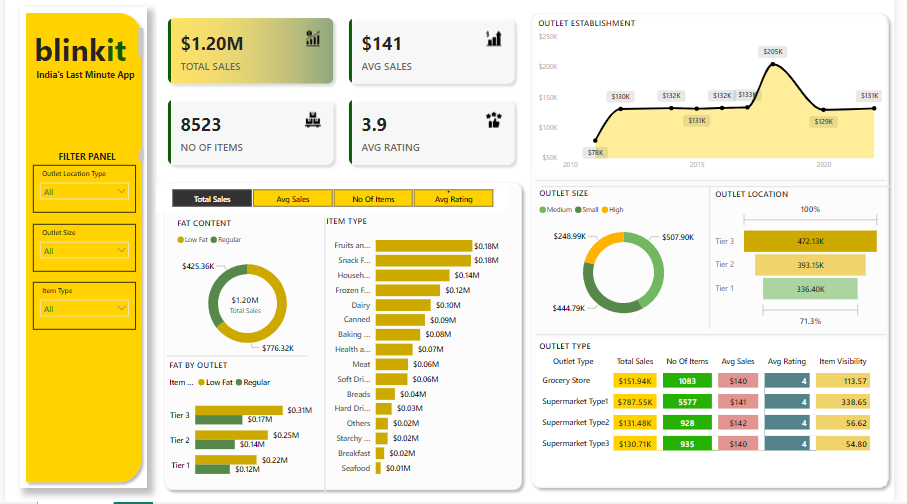

The page's visual inventory and layout, read from the dashboard file:
{"tool":"powerbi","page":{"name":"Page 1","canvas":[1400,800],"ordinal":0},"visuals":[{"type":"shape","box":[23.1,20.2,200,757.9],"z":0},{"type":"textbox","box":[40.5,49.2,182.2,63.6],"z":1000},{"type":"textbox","box":[44.1,111.8,181.1,34.6],"z":2000},{"type":"cardVisual","fields":{"Data":["BlinkIT Grocery Data.Total Sales","BlinkIT Grocery Data.Avg Sales","BlinkIT Grocery Data.No Of Items","BlinkIT Grocery Data.Avg Rating"]},"box":[240,21.1,581.1,267.4],"z":3000},{"type":"shape","box":[240.3,286.5,582.2,503.6],"z":4000},{"type":"slicer","fields":{"Values":["Metrics.Metrics"]},"box":[238.5,301.1,555.3,41.1],"z":6000},{"type":"cardVisual","fields":{"Data":["BlinkIT Grocery Data.Total Sales"]},"box":[335.4,450.4,86.6,77.2],"z":7000},{"type":"clusteredBarChart","title":"FAT  BY OUTLET","fields":{"Y":["BlinkIT Grocery Data.Total Sales"],"Category":["BlinkIT Grocery Data.Outlet Location Type"],"Series":["BlinkIT Grocery Data.Item Fat Content"]},"box":[253.5,574.8,234.6,203.1],"z":8000},{"type":"shape","box":[253.5,565.4,222,9.4],"z":9000},{"type":"barChart","title":"ITEM TYPE","fields":{"Y":["BlinkIT Grocery Data.Total Sales"],"Category":["BlinkIT Grocery Data.Item Type"]},"box":[500.6,348,281.6,422.3],"z":11000},{"type":"shape","box":[818.6,20.2,581.4,766.5],"z":12000},{"type":"lineChart","title":"OUTLET ESTABLISHMENT","fields":{"Category":["BlinkIT Grocery Data.Outlet Establishment Year"],"Y":["BlinkIT Grocery Data.Total Sales"]},"box":[834.6,36.2,551.2,250.4],"z":13000},{"type":"shape","box":[498.2,351.7,12.6,436.2],"z":14000},{"type":"shape","box":[834.6,286.6,551.2,14.2],"z":14002},{"type":"donutChart","title":"FAT CONTENT","fields":{"Y":["BlinkIT Grocery Data.Total Sales"],"Category":["BlinkIT Grocery Data.Item Fat Content"]},"box":[266.7,351.7,231.5,228.3],"z":14003},{"type":"donutChart","title":"OUTLET SIZE","fields":{"Y":["BlinkIT Grocery Data.Total Sales"],"Category":["BlinkIT Grocery Data.Outlet Size"]},"box":[835.8,303.2,275.8,225.3],"z":14004},{"type":"shape","box":[1102.1,300.8,14.5,225.6],"z":14006},{"type":"funnel","title":"OUTLET LOCATION","fields":{"Y":["Sum(BlinkIT Grocery Data.Sales)"],"Category":["BlinkIT Grocery Data.Outlet Location Type"]},"box":[1113.7,305.3,269.5,225.3],"z":14007},{"type":"shape","box":[835.8,528.4,551.6,14.7],"z":14008},{"type":"pivotTable","title":"OUTLET TYPE","fields":{"Rows":["BlinkIT Grocery Data.Outlet Type"],"Values":["BlinkIT Grocery Data.Total Sales","BlinkIT Grocery Data.No Of Items","BlinkIT Grocery Data.Avg Sales","BlinkIT Grocery Data.Avg Rating","Sum(BlinkIT Grocery Data.Item Visibility)"]},"box":[835.8,545.3,551.6,229.5],"z":14009},{"type":"slicer","fields":{"Values":["BlinkIT Grocery Data.Outlet Location Type"]},"box":[43.4,269,162,75.2],"z":14010},{"type":"shape","box":[844.6,296.6,551.2,14.2],"z":14011},{"type":"slicer","fields":{"Values":["BlinkIT Grocery Data.Outlet Size"]},"box":[43.4,361.6,162,75.2],"z":14012},{"type":"slicer","fields":{"Values":["BlinkIT Grocery Data.Item Type"]},"box":[43.4,454.1,162,75.2],"z":14013},{"type":"textbox","box":[42.5,240.9,181.1,28.3],"z":14014}]}

Visuals, with their boxes in screenshot pixels (x1, y1, x2, y2), scaled from the page's 1400x800 canvas onto the 907x504 screenshot:
shape: {"x1": 15, "y1": 13, "x2": 145, "y2": 490}
textbox: {"x1": 26, "y1": 31, "x2": 144, "y2": 71}
textbox: {"x1": 29, "y1": 70, "x2": 146, "y2": 92}
cardVisual - BlinkIT Grocery Data.Total Sales x BlinkIT Grocery Data.Avg Sales: {"x1": 155, "y1": 13, "x2": 532, "y2": 182}
shape: {"x1": 156, "y1": 180, "x2": 533, "y2": 498}
slicer - Metrics.Metrics: {"x1": 155, "y1": 190, "x2": 514, "y2": 216}
cardVisual - BlinkIT Grocery Data.Total Sales: {"x1": 217, "y1": 284, "x2": 273, "y2": 332}
"FAT  BY OUTLET" clusteredBarChart: {"x1": 164, "y1": 362, "x2": 316, "y2": 490}
shape: {"x1": 164, "y1": 356, "x2": 308, "y2": 362}
"ITEM TYPE" barChart: {"x1": 324, "y1": 219, "x2": 507, "y2": 485}
shape: {"x1": 530, "y1": 13, "x2": 906, "y2": 496}
"OUTLET ESTABLISHMENT" lineChart: {"x1": 541, "y1": 23, "x2": 898, "y2": 181}
shape: {"x1": 323, "y1": 222, "x2": 331, "y2": 496}
shape: {"x1": 541, "y1": 181, "x2": 898, "y2": 190}
"FAT CONTENT" donutChart: {"x1": 173, "y1": 222, "x2": 323, "y2": 365}
"OUTLET SIZE" donutChart: {"x1": 541, "y1": 191, "x2": 720, "y2": 333}
shape: {"x1": 714, "y1": 190, "x2": 723, "y2": 332}
"OUTLET LOCATION" funnel: {"x1": 722, "y1": 192, "x2": 896, "y2": 334}
shape: {"x1": 541, "y1": 333, "x2": 899, "y2": 342}
"OUTLET TYPE" pivotTable: {"x1": 541, "y1": 344, "x2": 899, "y2": 488}
slicer - BlinkIT Grocery Data.Outlet Location Type: {"x1": 28, "y1": 169, "x2": 133, "y2": 217}
shape: {"x1": 547, "y1": 187, "x2": 904, "y2": 196}
slicer - BlinkIT Grocery Data.Outlet Size: {"x1": 28, "y1": 228, "x2": 133, "y2": 275}
slicer - BlinkIT Grocery Data.Item Type: {"x1": 28, "y1": 286, "x2": 133, "y2": 333}
textbox: {"x1": 28, "y1": 152, "x2": 145, "y2": 170}
